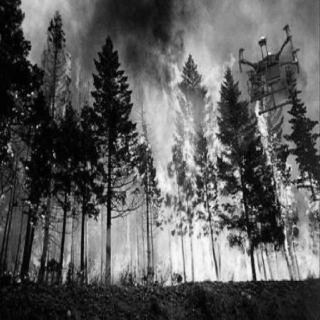Fire: (4, 43, 317, 285)
Smoke: (61, 1, 205, 70)
